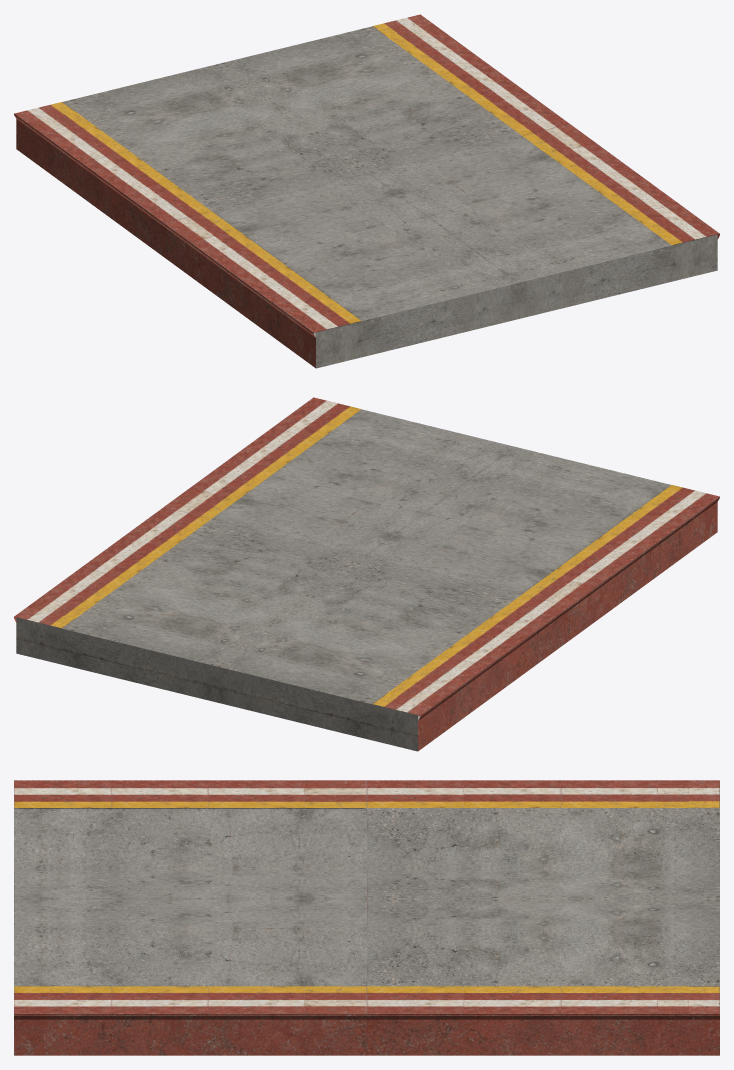
The model's file is TTKC-20M-WIDE.glb.
3 views of the same model, one above another, from view 1: azimuth 30°, elevation 25°; view 2: azimuth 150°, elevation 25°; view 3: azimuth 270°, elevation 25° (orthographic). The views are drawn at different scales.
Parts seen in each view (by area): view 1: TTKC-20M-WIDEPF; view 2: TTKC-20M-WIDEPF; view 3: TTKC-20M-WIDEPF.
Boxes of the visible parts, x1=… form: TTKC-20M-WIDEPF: x1=14, y1=14, x2=719, y2=368; TTKC-20M-WIDEPF: x1=14, y1=397, x2=719, y2=751; TTKC-20M-WIDEPF: x1=14, y1=780, x2=719, y2=1055.
Size of the model in its own units: 16.5 by 1.41 by 21.07.
1 material, 1 textured.
